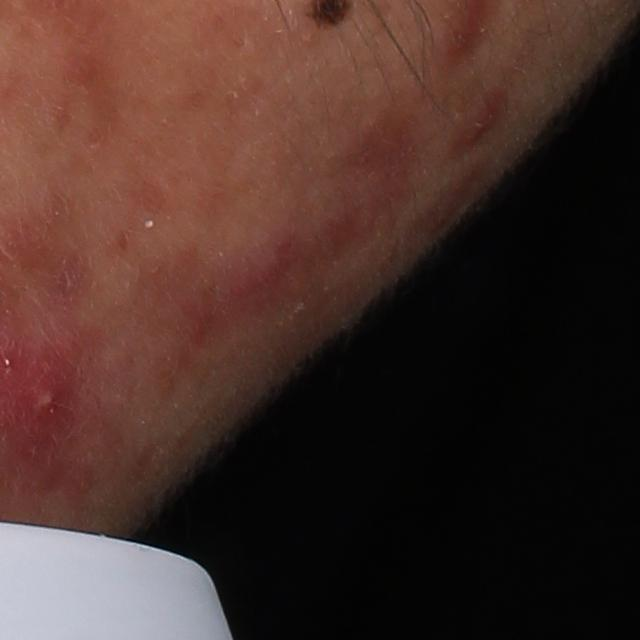papule: (466, 99, 504, 144)
